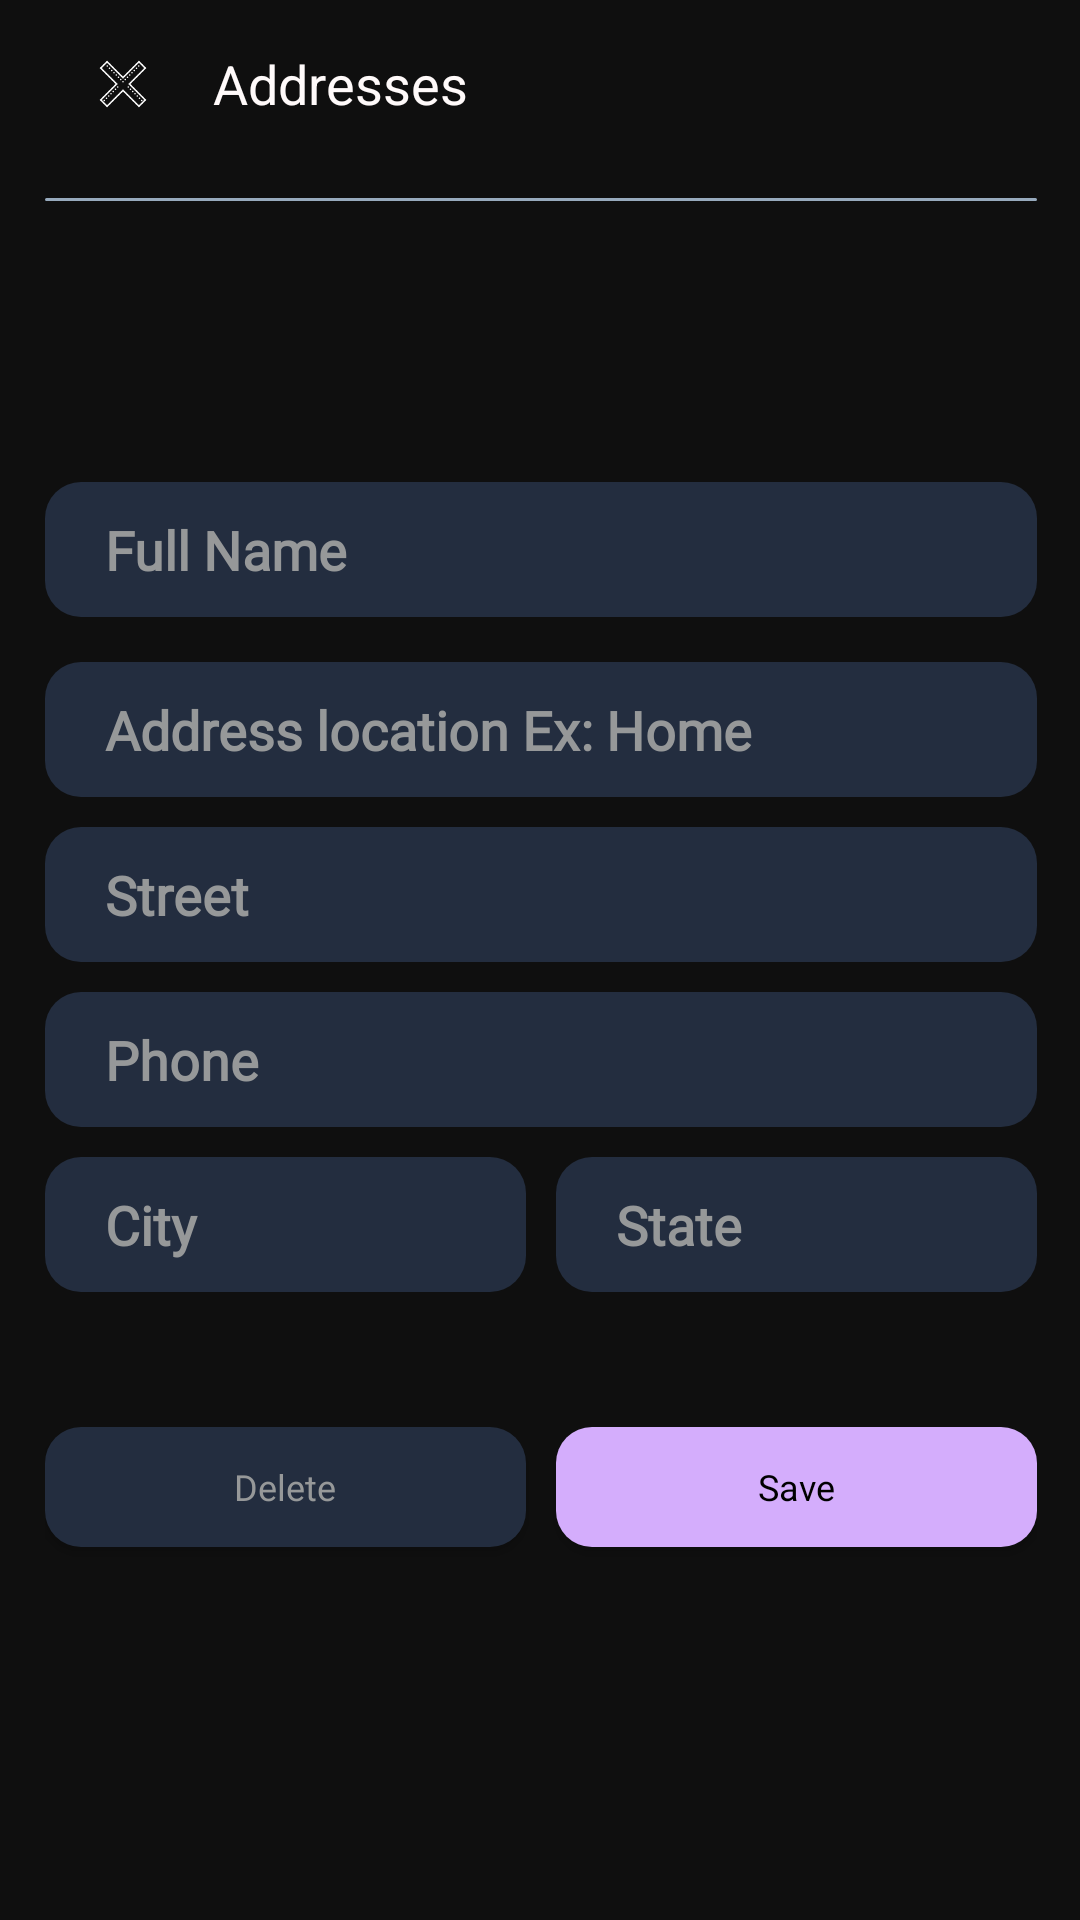

Named icons in this screenshot (1080 x 1920) and their centers, [x,y]:
close: [123,84]
